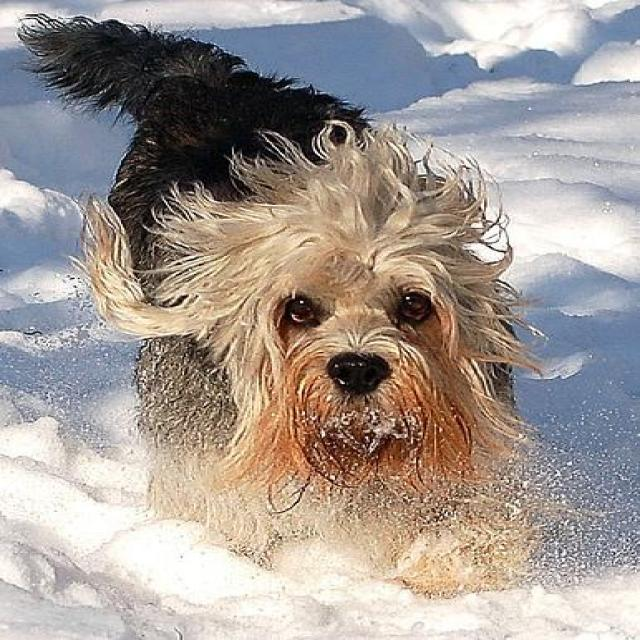dandie_dinmont: (13, 13, 580, 603)
